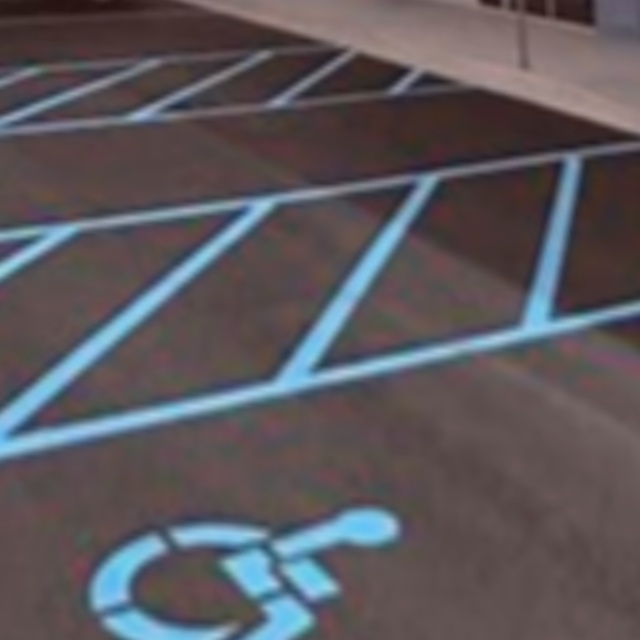ISA: (83, 483, 413, 640)
